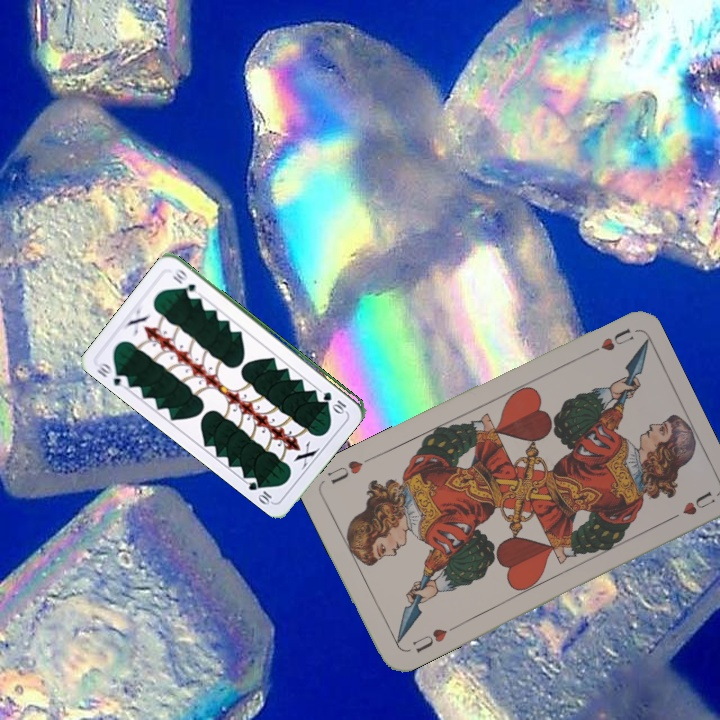G10: (93, 359, 131, 391), (319, 388, 349, 414)
HU: (581, 324, 636, 359), (408, 624, 450, 656)
